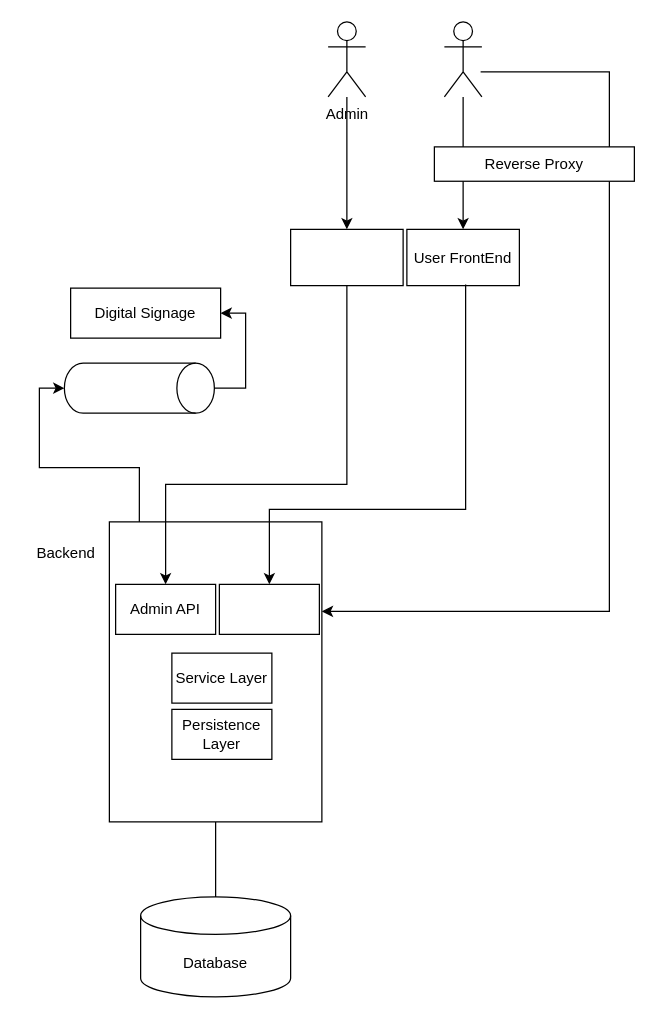
This 656x1019 diagram has some shape labels left out. The shapes that lost their labels are listed below. From the top down, each one's centre as x and y in pixels, then its label:
(462,59): User
(346,257): Admin FrontEnd
(138,387): Signage Queue
(268,608): Rest API
